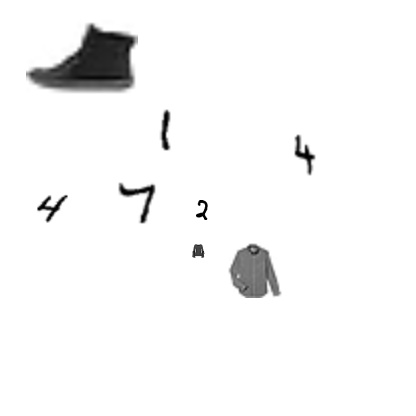1: (136, 102, 192, 158)
2: (188, 196, 216, 224)
4: (275, 125, 331, 181), (30, 185, 72, 227)
7: (111, 169, 167, 225)
Ankle_boot: (26, 0, 138, 112)
Pullover: (191, 244, 205, 258)
Shirt: (227, 242, 283, 298)
